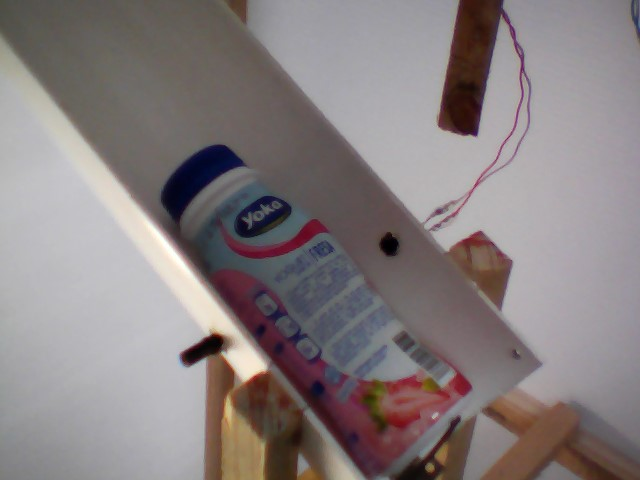plastico: (159, 136, 479, 480)
